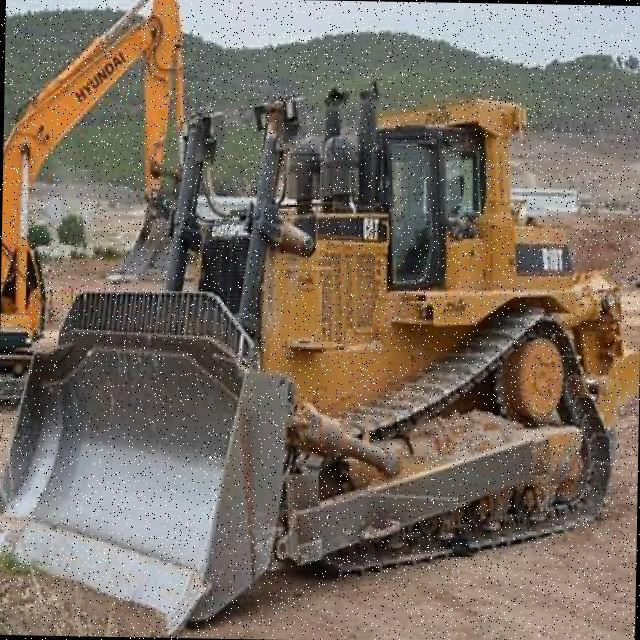Bulldozer: (0, 74, 640, 628)
